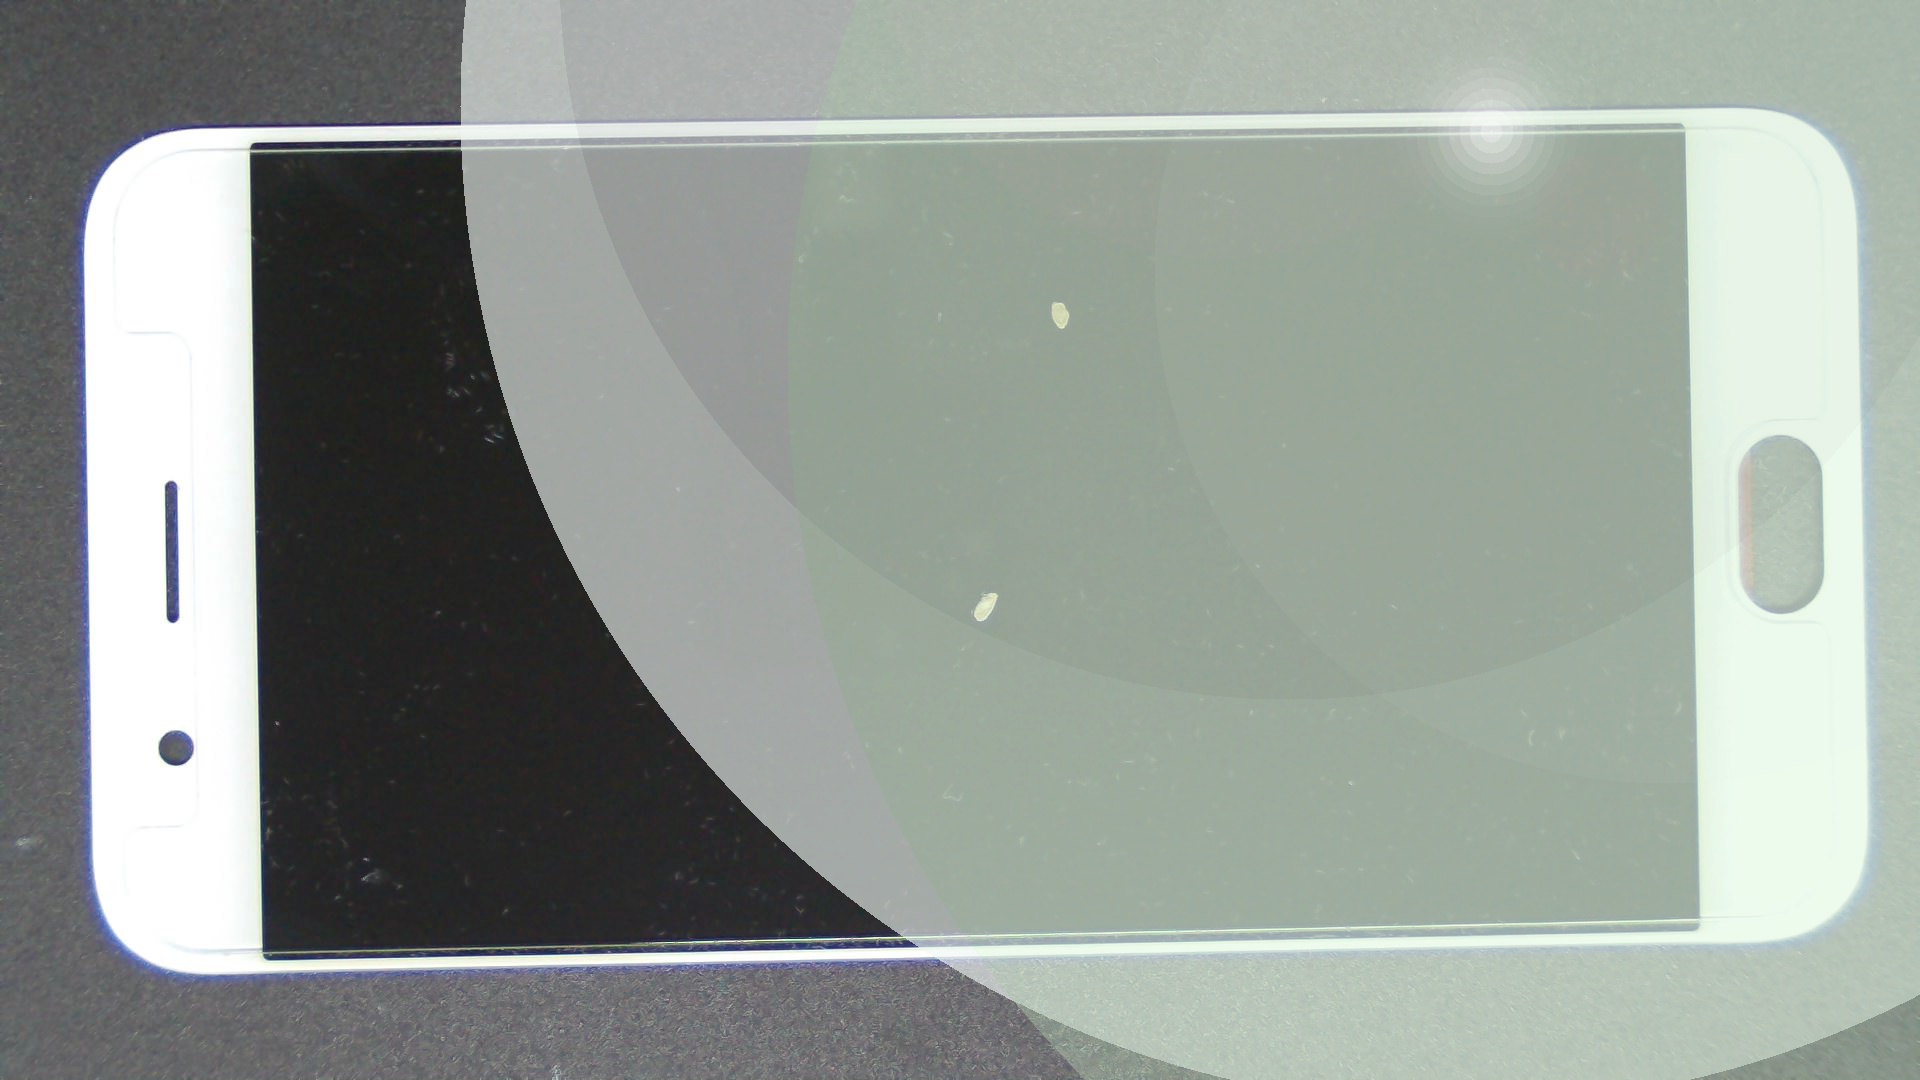oil: (493, 294, 1473, 886), (527, 149, 1582, 448)
